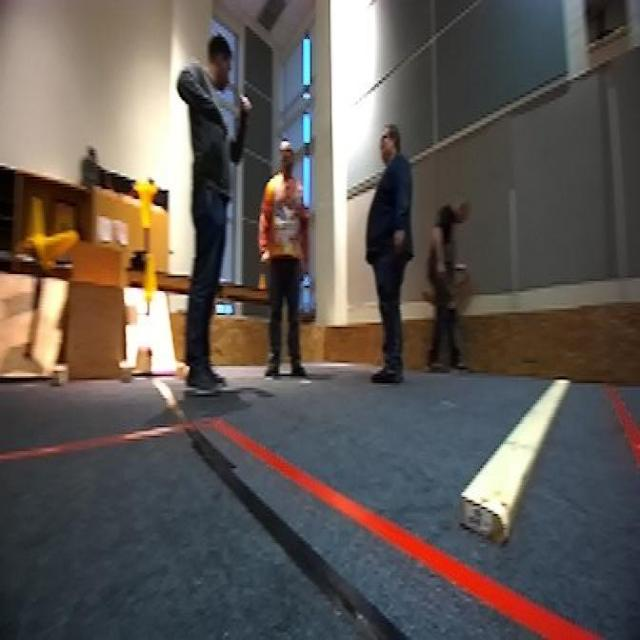frc_cone: (31, 225, 76, 274), (134, 181, 158, 228), (26, 192, 44, 250), (141, 252, 159, 303)
